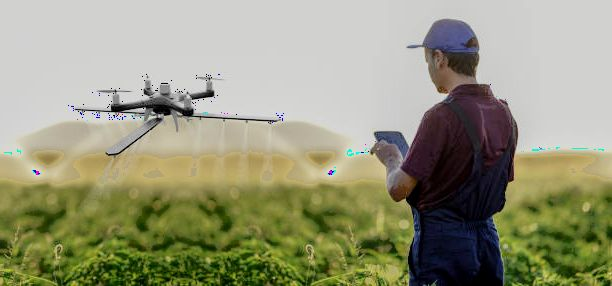Drone: (90, 68, 230, 121)
